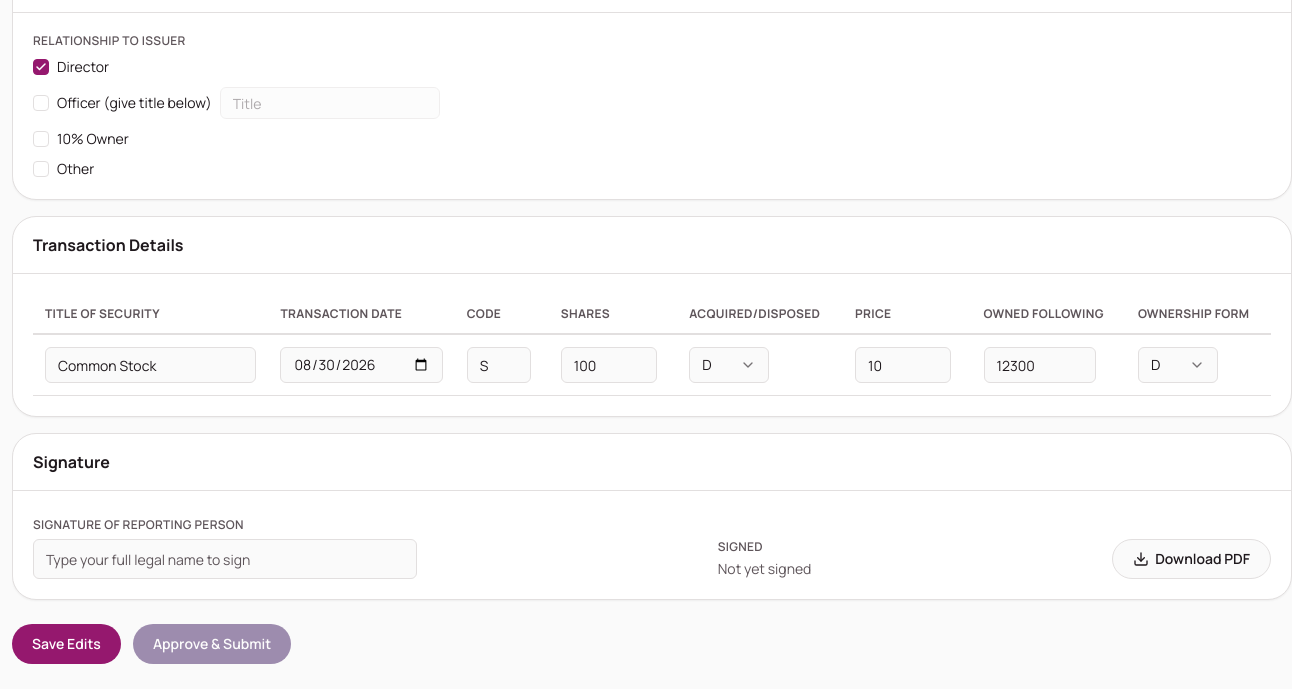
it: FilingReview › surfaces the backend field-error message after an invalid save
The width and height of the screenshot is (1292, 689).
(page scrolled)
Replace the text in the field named "shares" with "-5" at (609, 365), box [561,347,657,383]
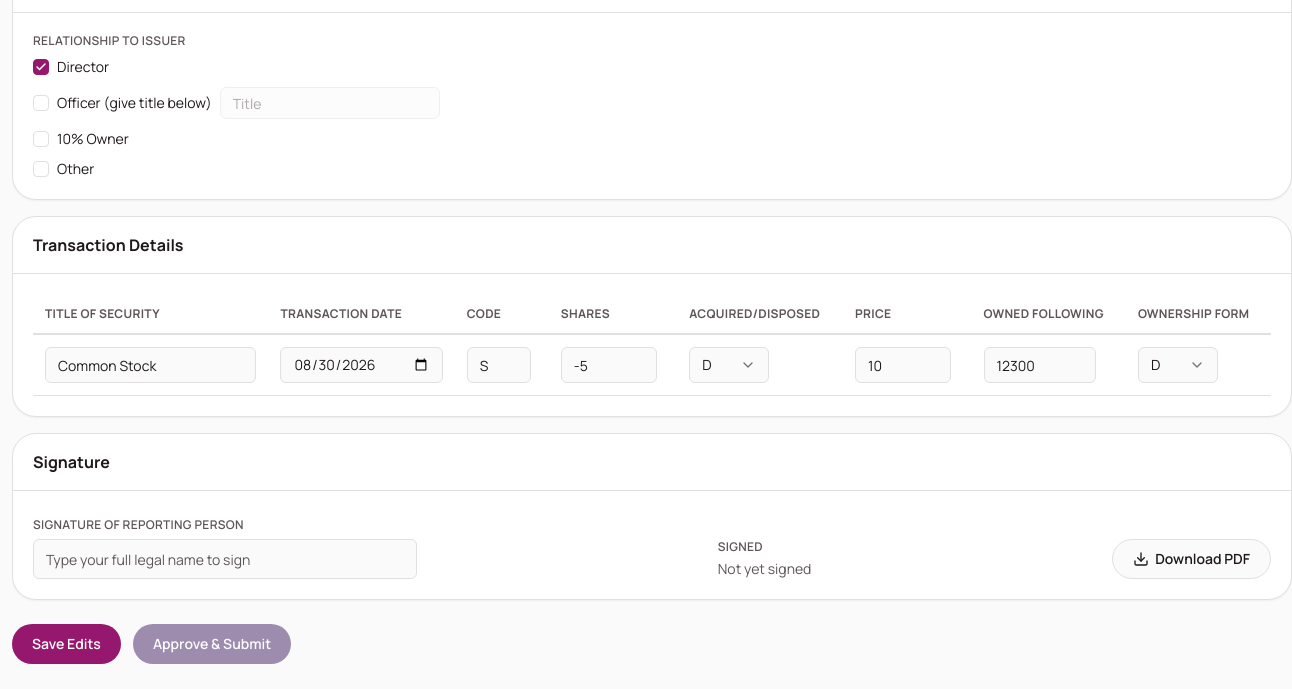
Click the button "Save Edits" at (66, 644), box [12,624,121,664]
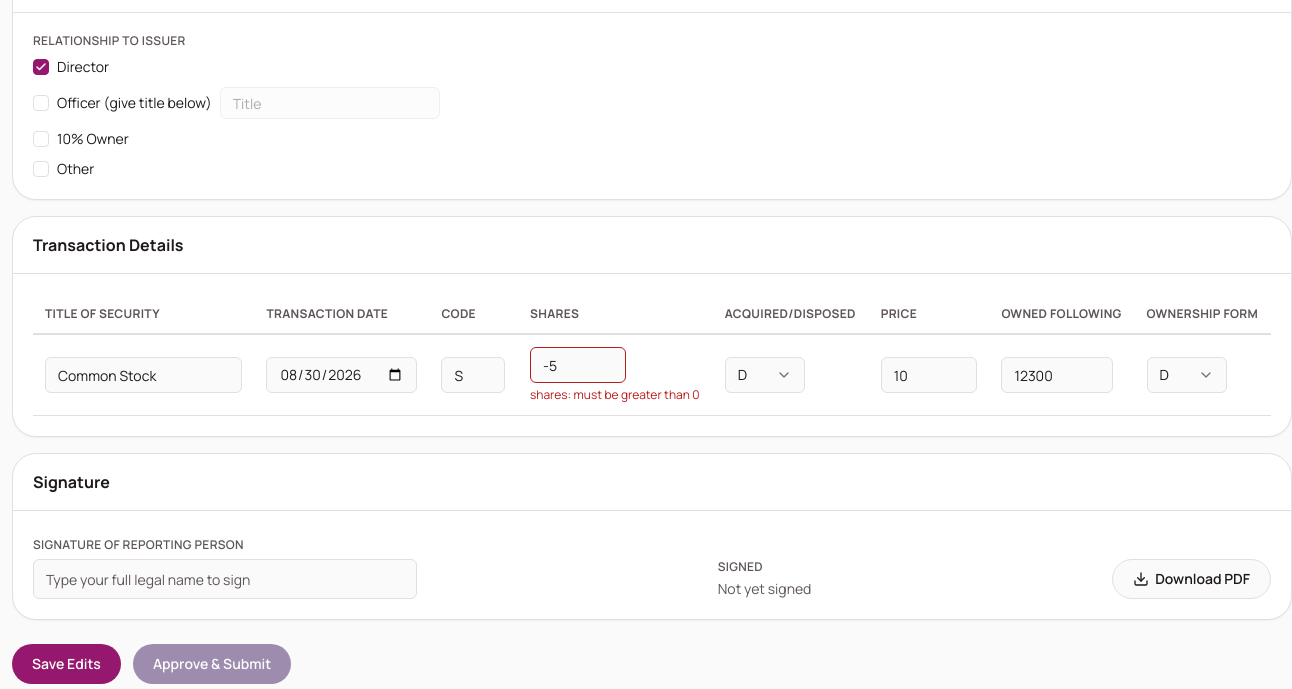
Now the text "shares: must be greater than 0" is shown, box [530,387,701,403]
